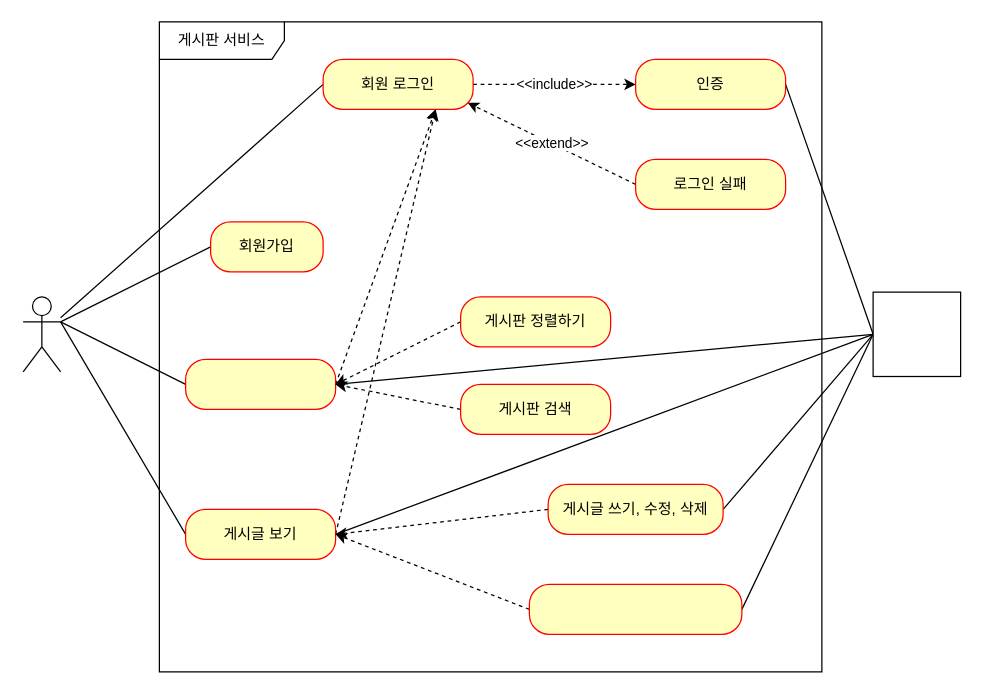
Some shapes in this 983 by 694 pixel diagram are drawn without their labels. Each missing label, with the centre of its shape:
"DB" belongs at (916,333).
"게시판 보기" belongs at (260,383).
"댓글 보기, 쓰기, 수정, 삭제" belongs at (635,608).
"이용자" belongs at (41,334).
